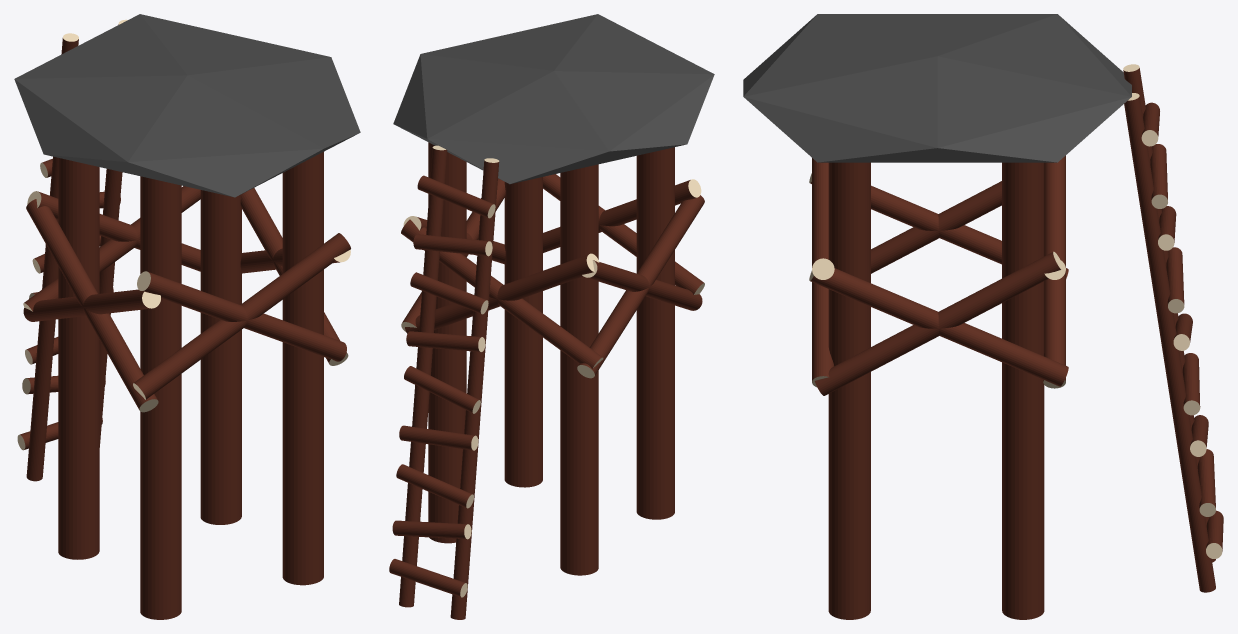
File: Watchtower.fbx
The picture shows the model from 3 angles, left to right: view 1: azimuth 30°, elevation 25°; view 2: azimuth 150°, elevation 25°; view 3: azimuth 270°, elevation 25°; orthographic projection. The views are drawn at different scales.
Visible parts, largest first — view 1: Rock, Leg.002, Leg.001, Leg, Leg.003, Ladder, Leg.009, Leg.011, Leg.008, Leg.010, Leg.004, Leg.007 (+2 smaller); view 2: Rock, Ladder, Leg, Leg.002, Leg.001, Leg.003, Leg.010, Leg.006, Leg.007, Leg.011, Leg.009, Leg.008 (+2 smaller); view 3: Rock, Leg.003, Leg.001, Ladder, Leg.004, Leg.005, Leg.007, Leg.008, Leg.011, Leg.010.
Part boxes in pixels (bbox=[...]): Rock: bbox=[14, 14, 360, 197]; Leg.002: bbox=[140, 176, 181, 619]; Leg.001: bbox=[282, 152, 323, 585]; Leg: bbox=[58, 158, 99, 559]; Leg.003: bbox=[200, 190, 241, 524]; Ladder: bbox=[17, 19, 127, 481]; Leg.009: bbox=[133, 233, 350, 399]; Leg.011: bbox=[26, 199, 158, 412]; Leg.008: bbox=[137, 271, 346, 361]; Leg.010: bbox=[23, 289, 160, 321]; Leg.004: bbox=[240, 188, 348, 365]; Leg.007: bbox=[27, 191, 200, 271]; Rock: bbox=[393, 14, 714, 184]; Ladder: bbox=[389, 145, 499, 619]; Leg: bbox=[560, 164, 598, 575]; Leg.002: bbox=[636, 147, 674, 519]; Leg.001: bbox=[504, 177, 542, 487]; Leg.003: bbox=[428, 142, 466, 543]; Leg.010: bbox=[577, 195, 704, 378]; Leg.006: bbox=[401, 219, 603, 368]; Leg.007: bbox=[405, 253, 599, 333]; Leg.011: bbox=[582, 260, 702, 310]; Leg.009: bbox=[543, 174, 704, 294]; Leg.008: bbox=[543, 179, 701, 252]; Rock: bbox=[743, 14, 1131, 162]; Leg.003: bbox=[1002, 162, 1044, 619]; Leg.001: bbox=[828, 162, 870, 619]; Ladder: bbox=[1123, 64, 1223, 592]; Leg.004: bbox=[814, 251, 1061, 395]; Leg.005: bbox=[809, 268, 1068, 386]; Leg.007: bbox=[1043, 155, 1065, 388]; Leg.008: bbox=[812, 158, 833, 387]; Leg.011: bbox=[871, 181, 1001, 273]; Leg.010: bbox=[809, 173, 1068, 278].
Size of the model in its own units: 606 by 988 by 830.
